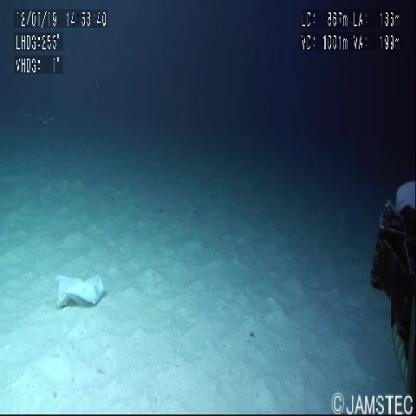Rác: (55, 274, 105, 311)
